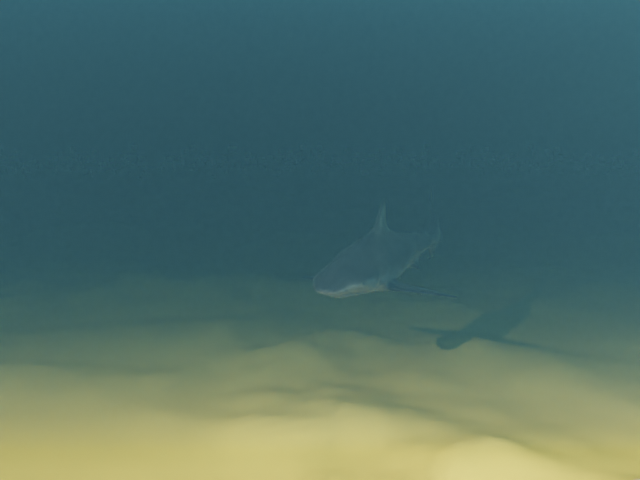Carribean Shark.001: (302, 186, 458, 297)
